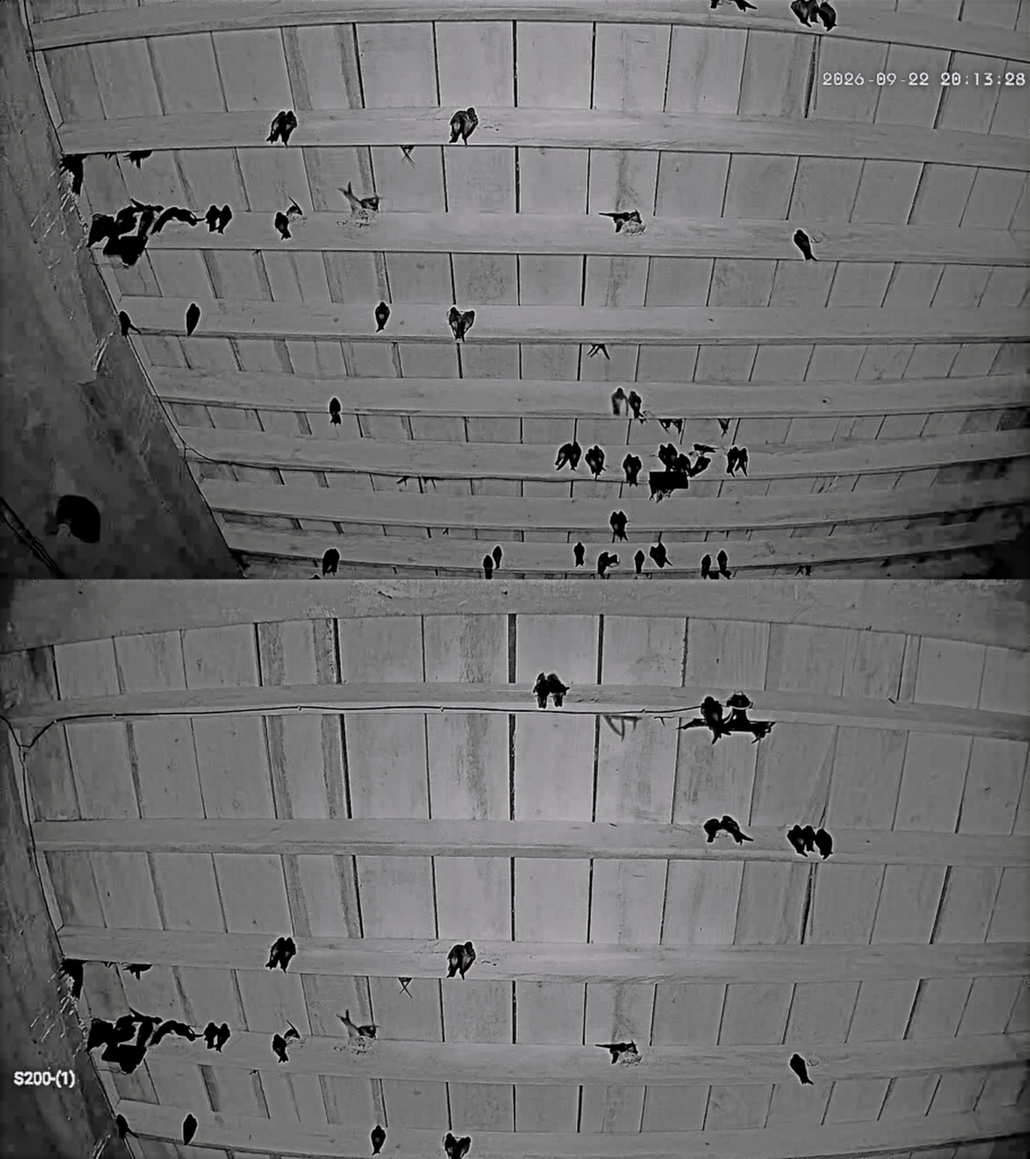swallow bird: (112, 1007, 161, 1048), (338, 181, 380, 222), (86, 1015, 135, 1050), (151, 206, 200, 234), (701, 696, 728, 744), (130, 199, 164, 237), (649, 471, 690, 502), (131, 199, 164, 237), (150, 1020, 198, 1046), (130, 1008, 161, 1047), (266, 110, 298, 145), (266, 936, 296, 972), (60, 154, 85, 196), (599, 210, 642, 233), (602, 714, 640, 740), (595, 1042, 638, 1064), (448, 306, 475, 341), (721, 815, 753, 844), (61, 958, 83, 999), (87, 214, 115, 246), (109, 1014, 137, 1045), (86, 1018, 112, 1051), (545, 673, 569, 708), (112, 205, 139, 236), (137, 205, 163, 237), (677, 453, 711, 477), (789, 1053, 814, 1085), (793, 228, 817, 261), (790, 0, 820, 26), (443, 1132, 471, 1159), (337, 1009, 362, 1039), (584, 444, 605, 479), (339, 181, 361, 214), (787, 823, 807, 857), (532, 672, 550, 709), (461, 107, 478, 144), (656, 443, 679, 470), (555, 442, 578, 469), (622, 454, 642, 485), (627, 390, 646, 422), (671, 452, 695, 477), (816, 0, 836, 30), (118, 311, 141, 337), (649, 540, 669, 569), (449, 110, 466, 144), (814, 827, 832, 859), (597, 552, 618, 579), (447, 943, 463, 978), (710, 0, 756, 12), (116, 1114, 138, 1139), (185, 302, 201, 336), (271, 1033, 289, 1063), (610, 511, 627, 542), (458, 310, 475, 341), (322, 547, 340, 576), (125, 150, 152, 169), (370, 1123, 386, 1155), (216, 204, 233, 234), (182, 1113, 198, 1144), (374, 301, 390, 332), (703, 817, 722, 843), (447, 306, 461, 341), (125, 963, 152, 981), (625, 212, 646, 235), (274, 211, 291, 239), (215, 1022, 230, 1053), (716, 550, 732, 579), (658, 418, 683, 436), (611, 387, 626, 417), (204, 204, 220, 232), (800, 824, 815, 852), (569, 440, 583, 470), (203, 1021, 218, 1049), (726, 445, 740, 474), (725, 446, 738, 476), (588, 343, 610, 360), (328, 397, 341, 425), (359, 195, 380, 212), (633, 549, 646, 575), (399, 146, 415, 167), (397, 977, 413, 998), (286, 198, 303, 217), (282, 1023, 301, 1040), (737, 448, 748, 477), (573, 542, 585, 567), (482, 554, 494, 579), (732, 0, 756, 12), (670, 418, 684, 438), (358, 1024, 377, 1038), (491, 545, 502, 569), (693, 443, 716, 454), (717, 418, 731, 436), (701, 554, 711, 578), (657, 417, 673, 432), (752, 732, 767, 745), (796, 564, 810, 576), (396, 475, 411, 486), (654, 715, 666, 726), (710, 0, 721, 10), (880, 558, 891, 567), (103, 961, 117, 968), (103, 152, 116, 159), (441, 527, 451, 536), (249, 1070, 260, 1078)
